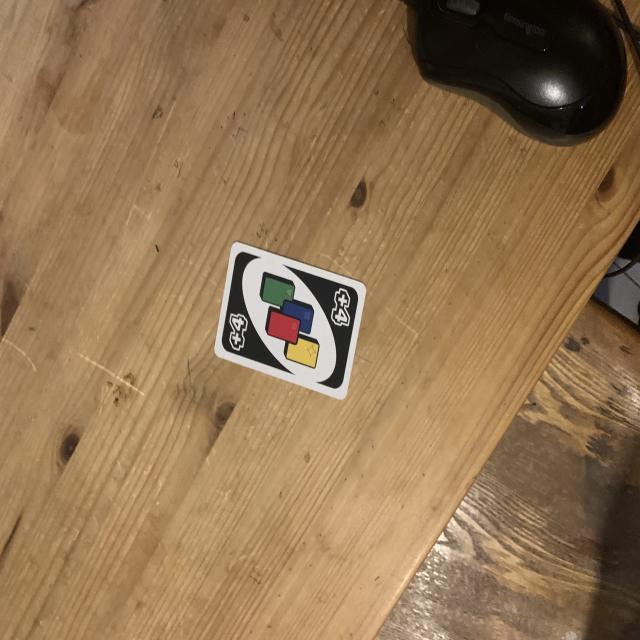lcolor-400: (224, 306, 252, 356)
